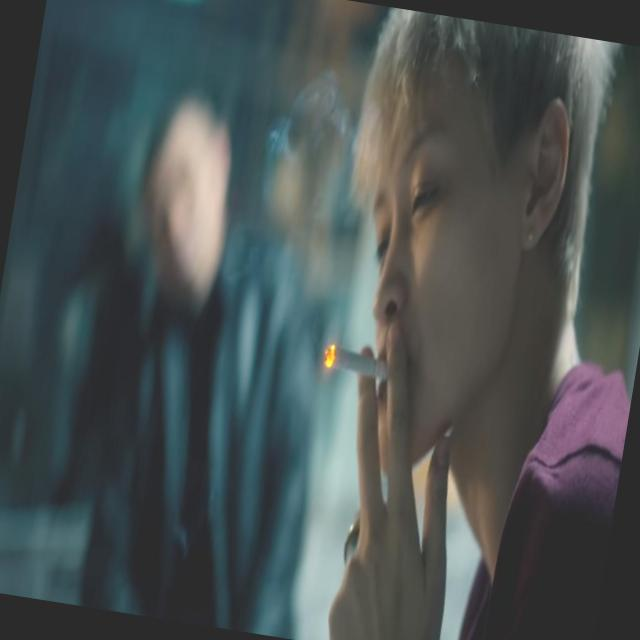cigarette: (318, 340, 394, 389)
